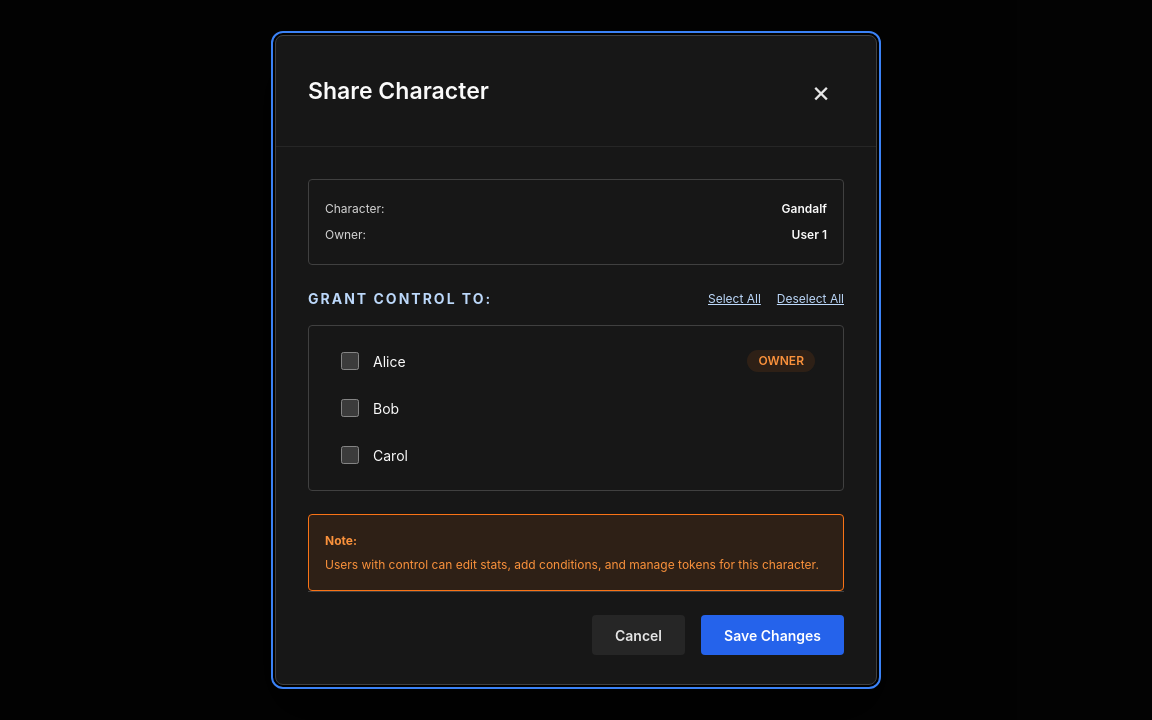
ShareCharacterDialog › select all checks all users
Click the button "Select All" at (734, 299), box left=708, top=291, right=761, bottom=306
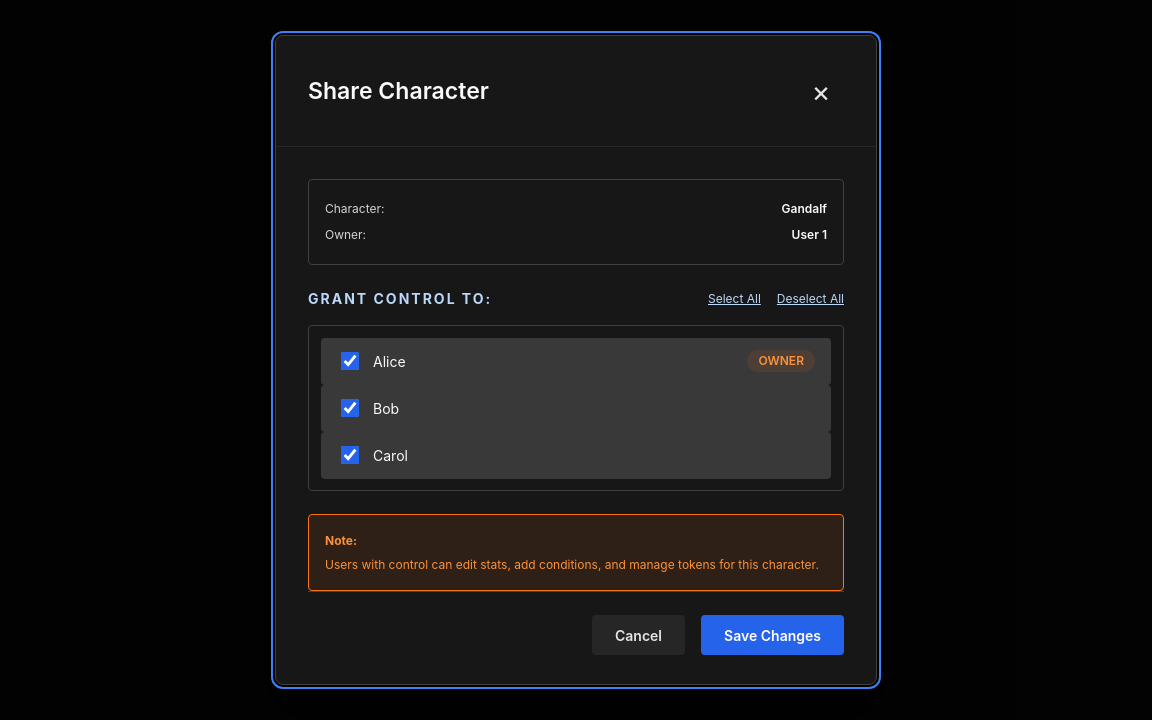
Now the checkbox labelled "Alice Owner" is checked, box left=340, top=352, right=358, bottom=370
Now the checkbox labelled "Bob" is checked, box left=340, top=399, right=358, bottom=417
Now the checkbox labelled "Carol" is checked, box left=340, top=446, right=358, bottom=464
